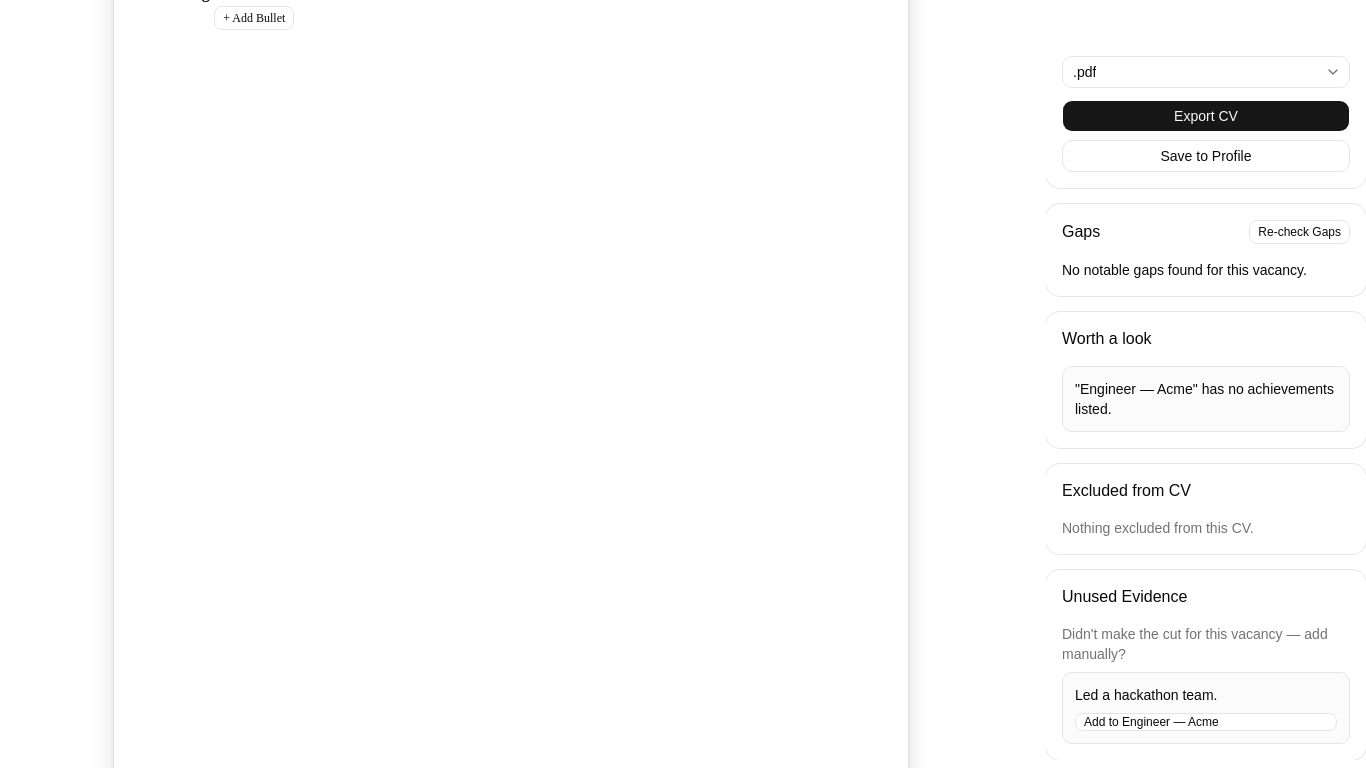
Scenario: DraftScreen › clicking Add to Role removes that item from Unused Evidence, so it can't be added twice
(page scrolled)
Expected: the text "Led a hackathon team." is shown, [1075, 687, 1217, 703]
Click the button "Add to Engineer — Acme" at (1206, 722), box [1075, 713, 1337, 731]
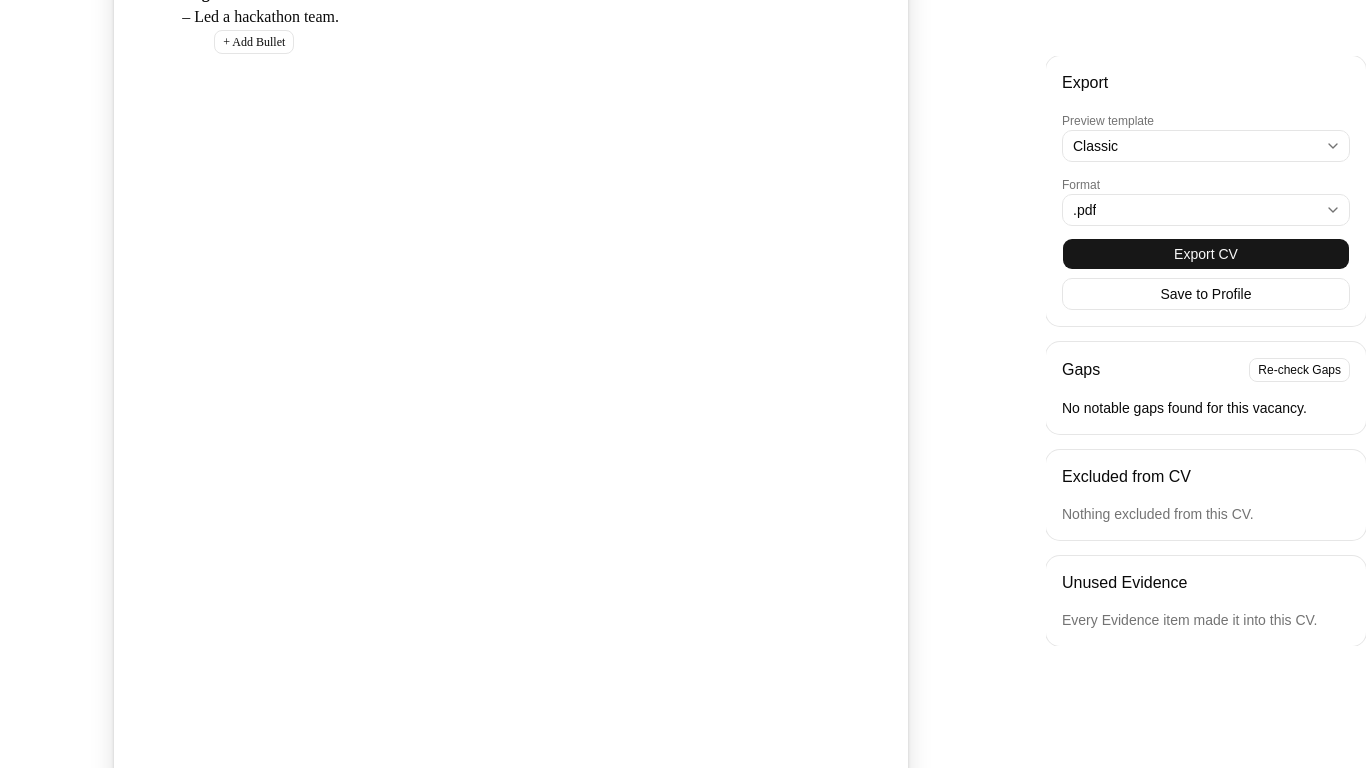
Expected: the text box "Led a hackathon team." is shown, [194, 8, 339, 25]
Result: the button "Add to Engineer — Acme" is gone
Result: the text "Every Evidence item made it into this CV." is shown at [1062, 610, 1350, 630]
